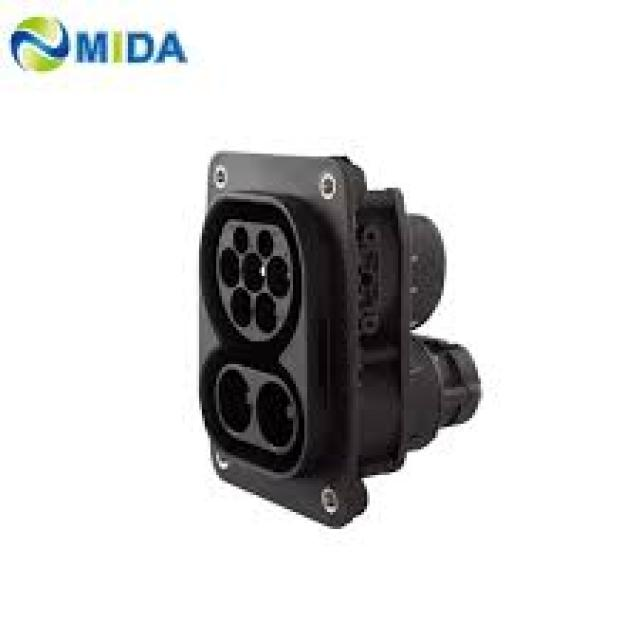inlet: (216, 220, 294, 343)
inlet-above-left: (232, 226, 248, 254)
inlet-above-right: (256, 230, 274, 258)
inlet-below-left: (230, 288, 250, 328)
inlet-below-right: (256, 292, 275, 333)
inlet-circle: (242, 252, 263, 293)
inlet-circle-left: (219, 249, 239, 286)
inlet-circle-right: (268, 258, 287, 298)
inlet-minus: (255, 382, 293, 448)
inlet-plus: (218, 369, 251, 432)
